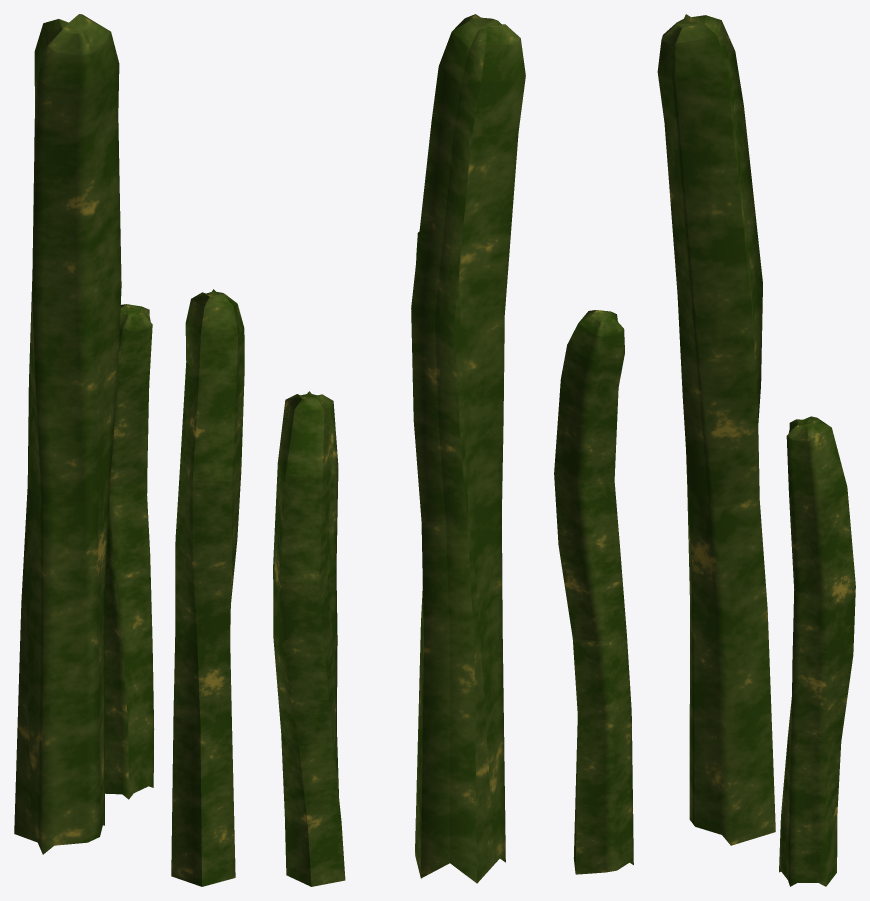
File: VEG0210044.fbx
3 views of the same model, side by side, from view 1: azimuth 30°, elevation 25°; view 2: azimuth 150°, elevation 25°; view 3: azimuth 270°, elevation 25° (orthographic). The views are drawn at different scales.
Parts seen in each view (by area): view 1: smVEG0210044; view 2: smVEG0210044; view 3: smVEG0210044.
Boxes of the visible parts, left/top/right/bottom form: smVEG0210044: left=14, top=14, right=244, bottom=886; smVEG0210044: left=273, top=14, right=525, bottom=886; smVEG0210044: left=554, top=14, right=855, bottom=886.
Size of the model in its own units: 81.45 by 360 by 122.
1 material, 1 textured.
